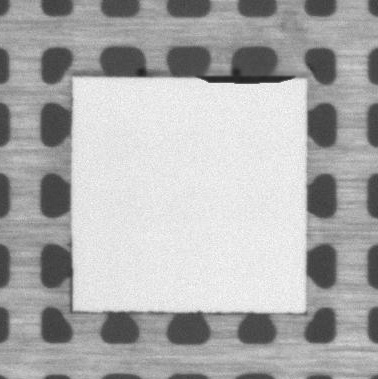DIE_BROKEN: (195, 72, 295, 84)
